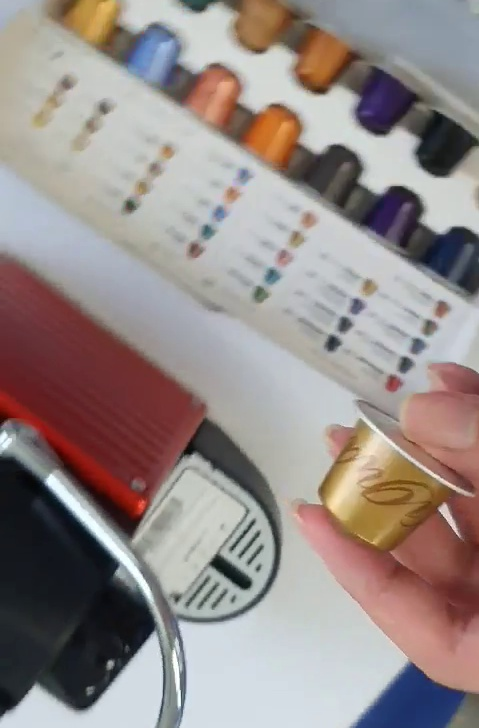capsule_9: (322, 395, 475, 548)
